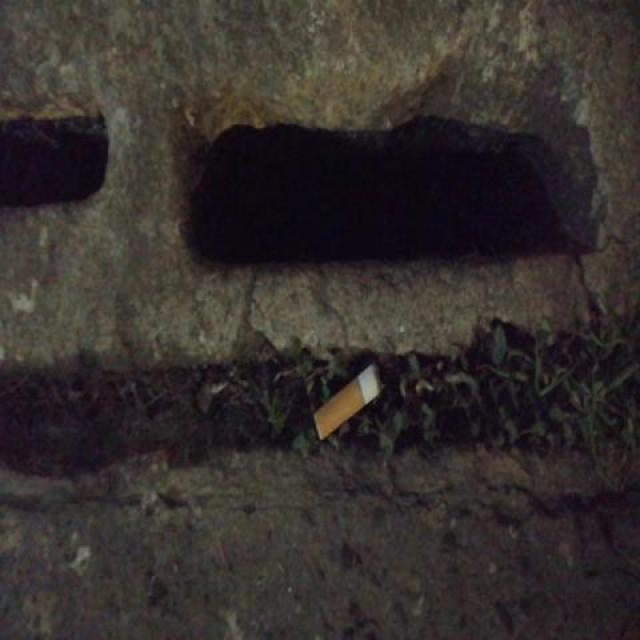non-organic waste: (311, 357, 390, 446)
